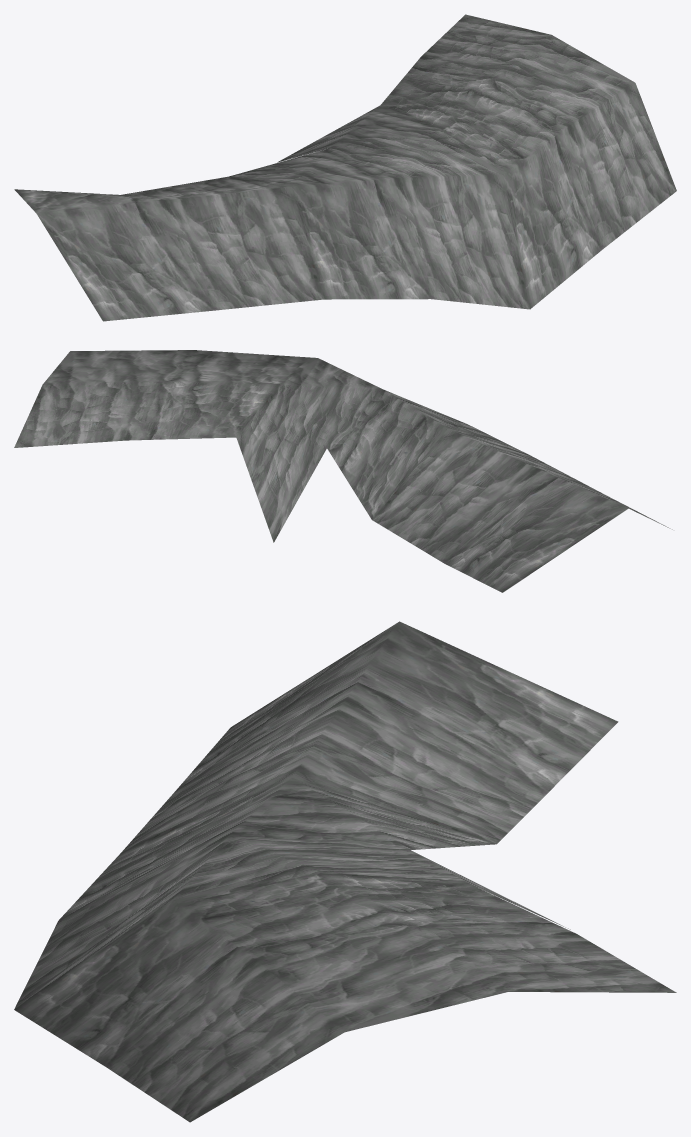
Rendered from SWORDLIGHT20_PS-AREA04_17.fbx.
3 views of the same model, one above another, from view 1: azimuth 30°, elevation 25°; view 2: azimuth 150°, elevation 25°; view 3: azimuth 270°, elevation 25° (orthographic). The views are drawn at different scales.
Visible parts, largest first — view 1: SWORDLIGHT20_PS-AREA04_17; view 2: SWORDLIGHT20_PS-AREA04_17; view 3: SWORDLIGHT20_PS-AREA04_17.
Part boxes in pixels (x1,y1,x2,y2): SWORDLIGHT20_PS-AREA04_17: (14,14,676,321); SWORDLIGHT20_PS-AREA04_17: (14,350,672,592); SWORDLIGHT20_PS-AREA04_17: (14,621,676,1122).
Size of the model in its own units: 154503 by 27026 by 104222.
Materials: 1 (1 with a texture image).
